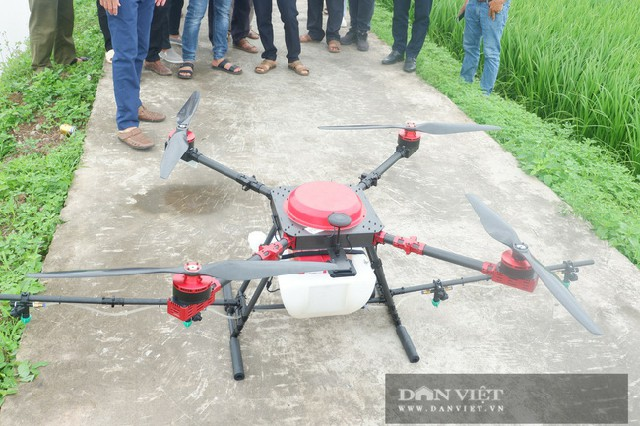maybay_khongnguoilai: (64, 103, 592, 355)
